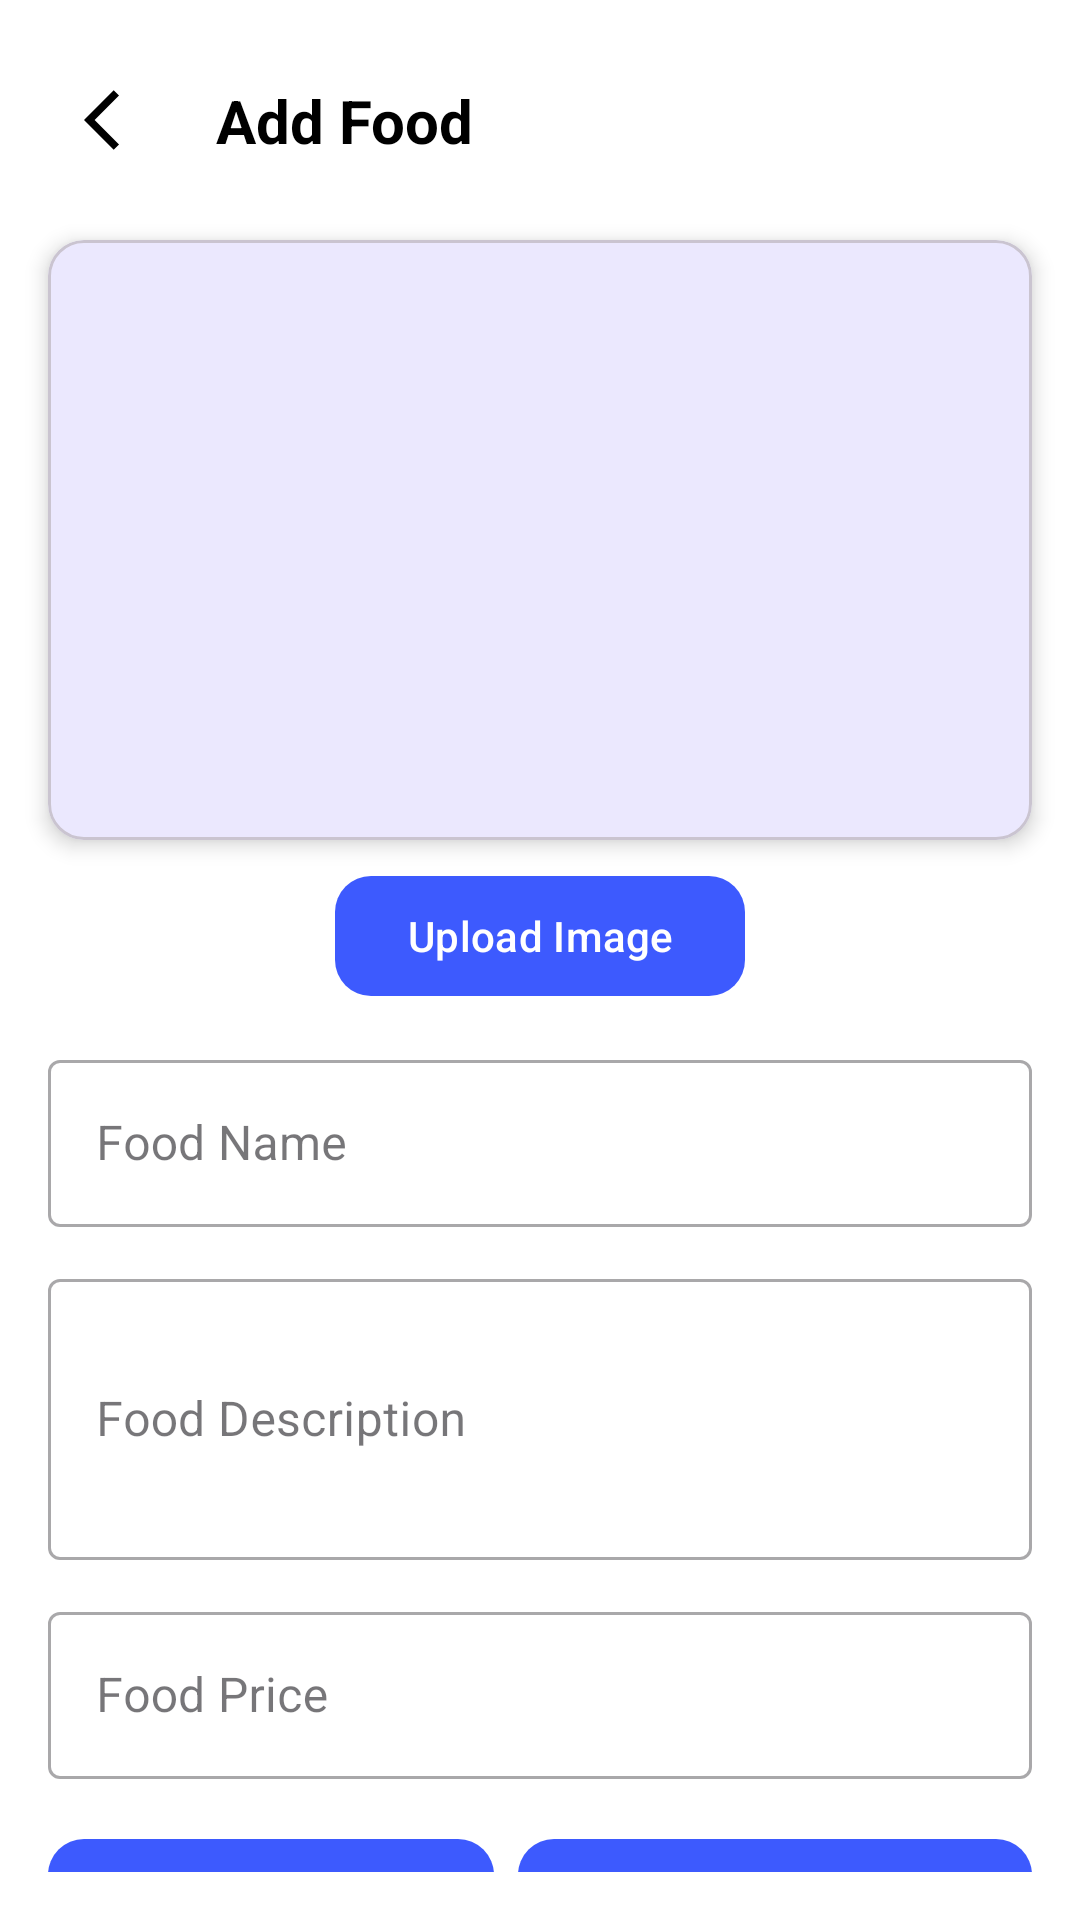

Point at icon controls on the screen. Image size 1080*1920, points as [x,y].
back: [101,120]
